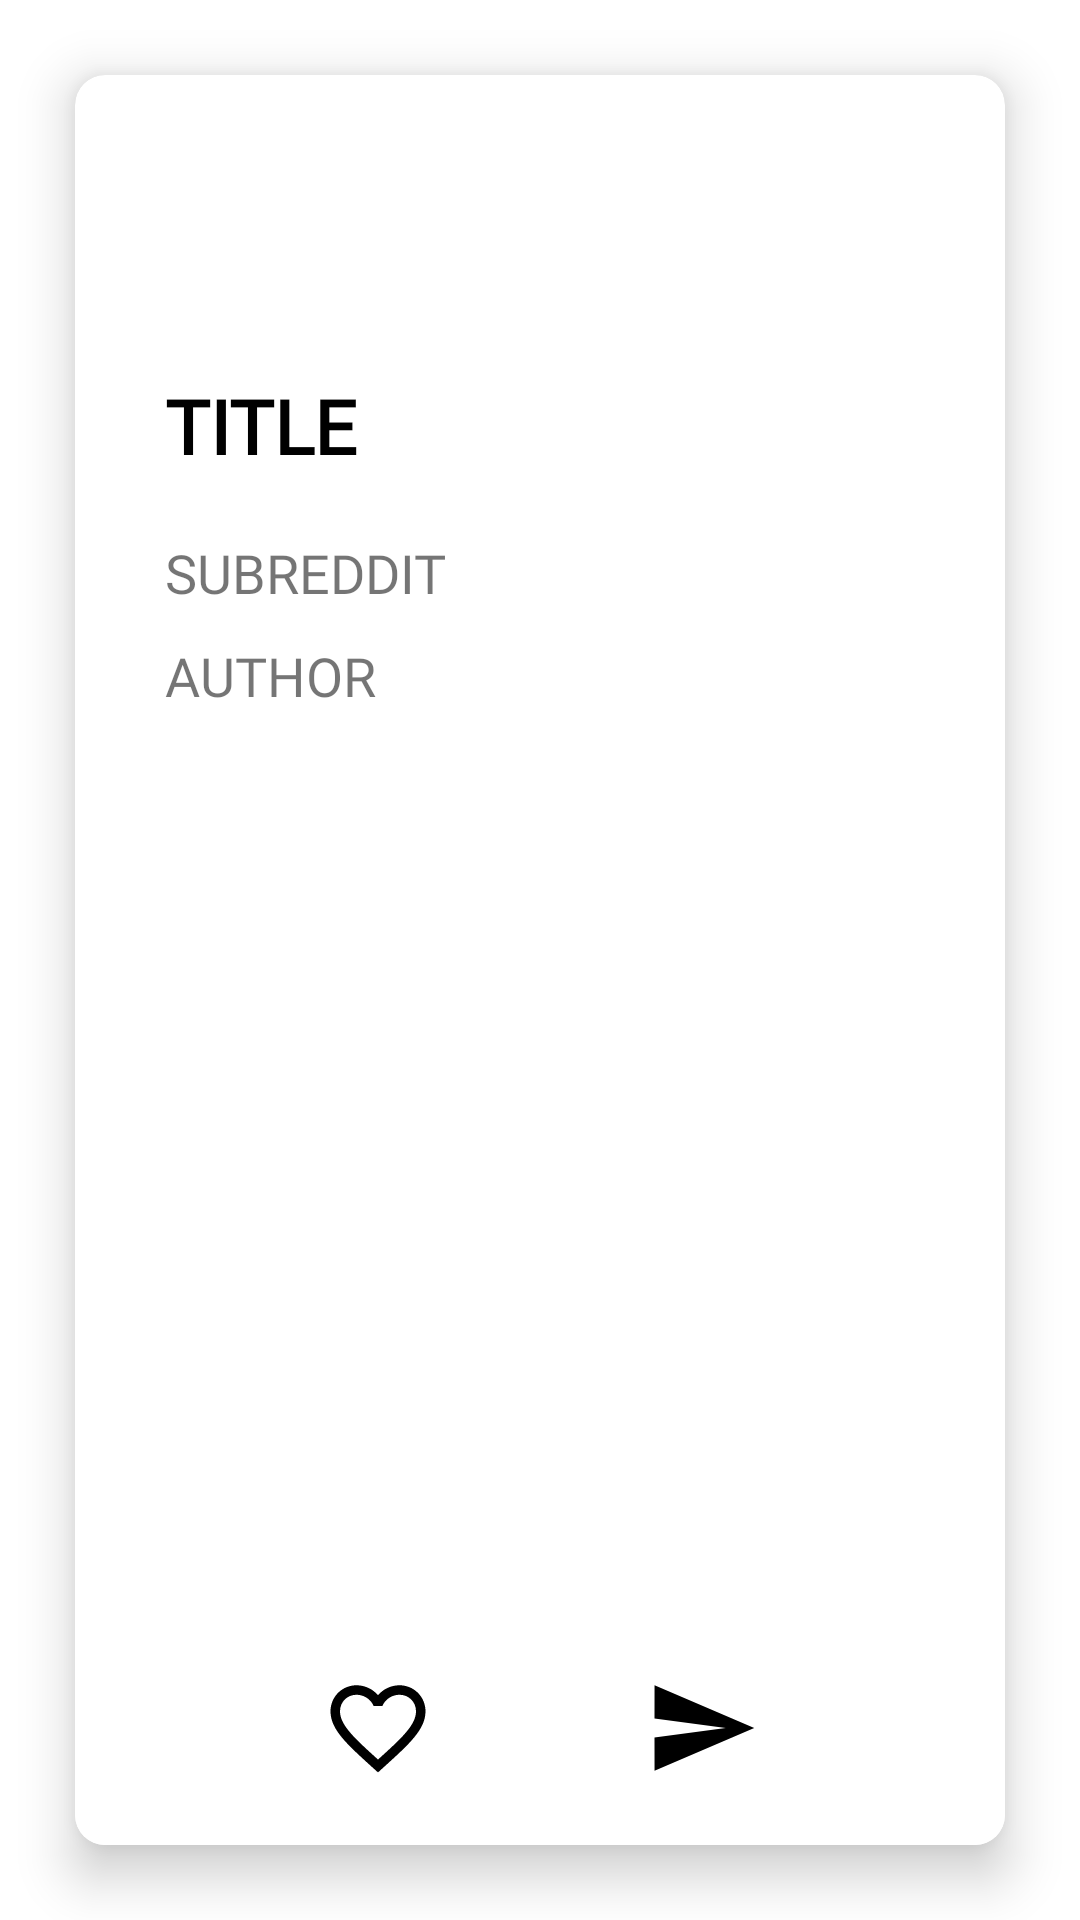

Icon click points for this 1080 × 1920 phone screenshot, format (x,y):
fav border: (378,1728)
send: (704,1728)
